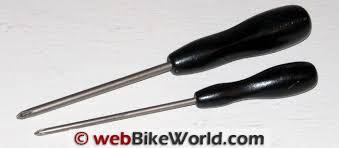screwdriver: (15, 4, 311, 119), (32, 58, 318, 135)
